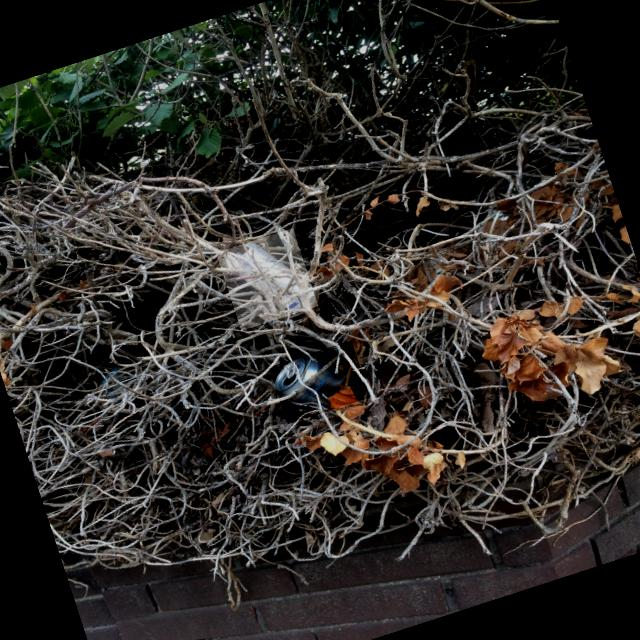Drink can: (221, 242, 314, 315), (275, 358, 366, 409)
Pop tab: (287, 363, 295, 379)
